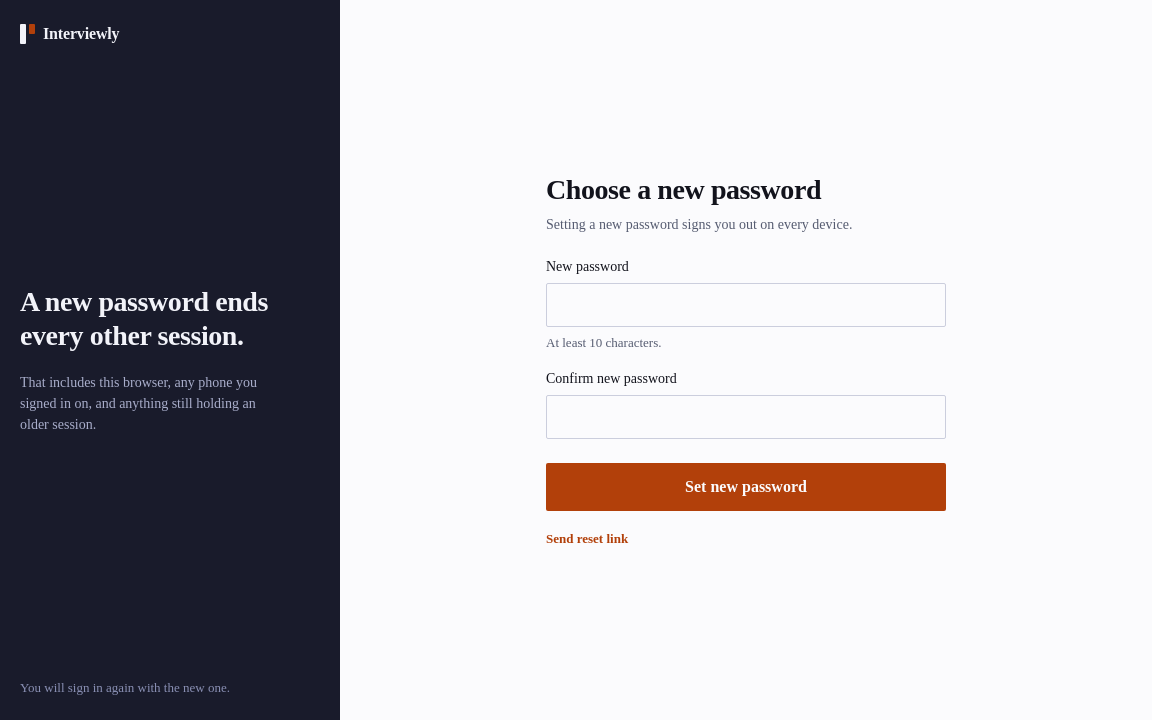
Scenario: reset-password page › refuses a mismatched confirmation without spending the token
This screenshot has width=1152, height=720.
Type "a-long-enough-password" into the password field labelled "New password" at [746, 304], box [546,282,946,326]
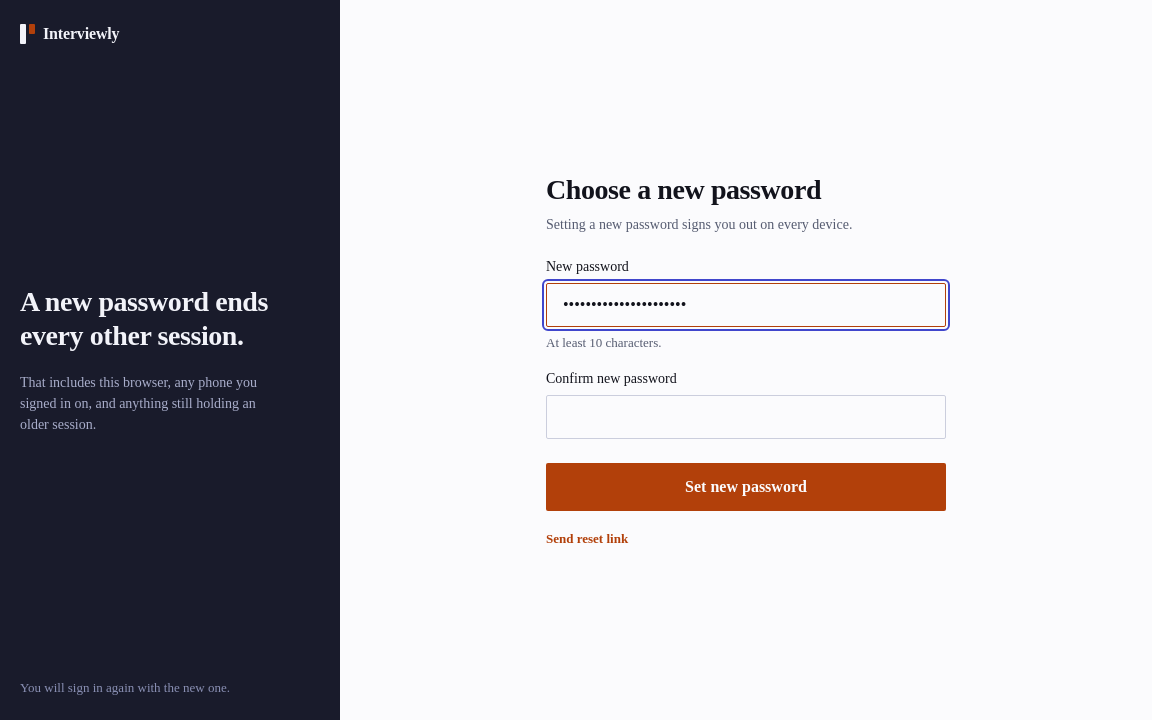
Type "a-different-password" into the password field labelled "Confirm new password" at [746, 416], box [546,394,946,438]
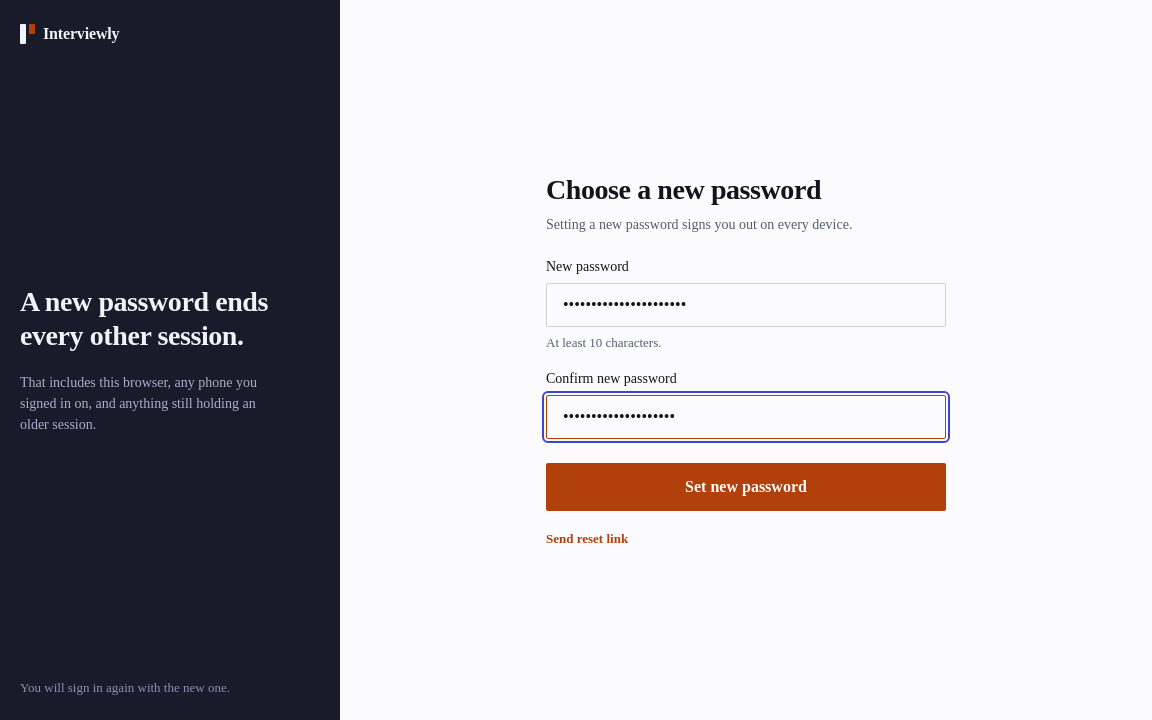
Click the button "Set new password" at [746, 486], box [546,462,946,510]
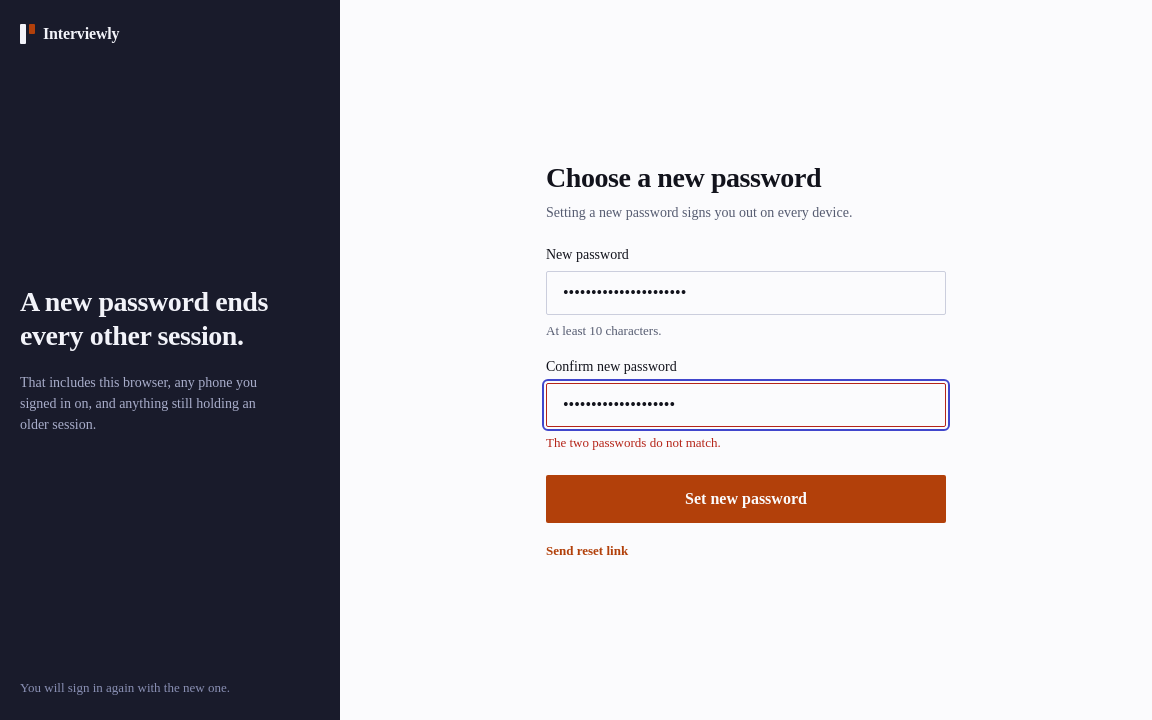
Result: the text "The two passwords do not match." is shown at [546,434,721,450]
